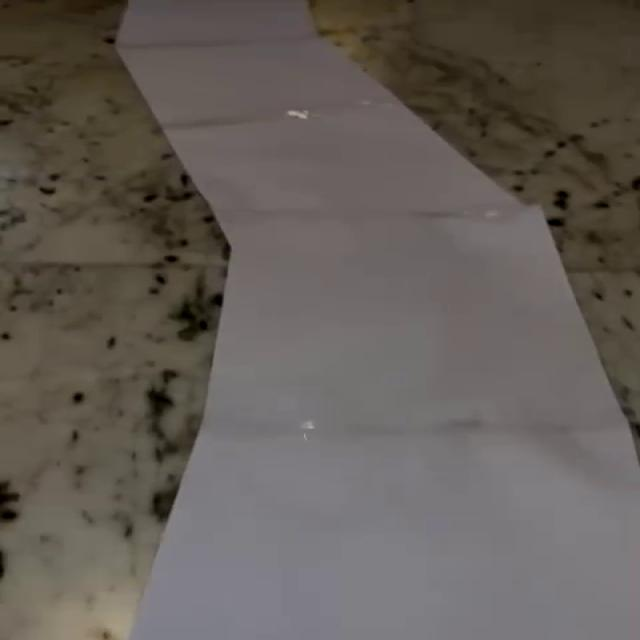road: (119, 0, 637, 640)
